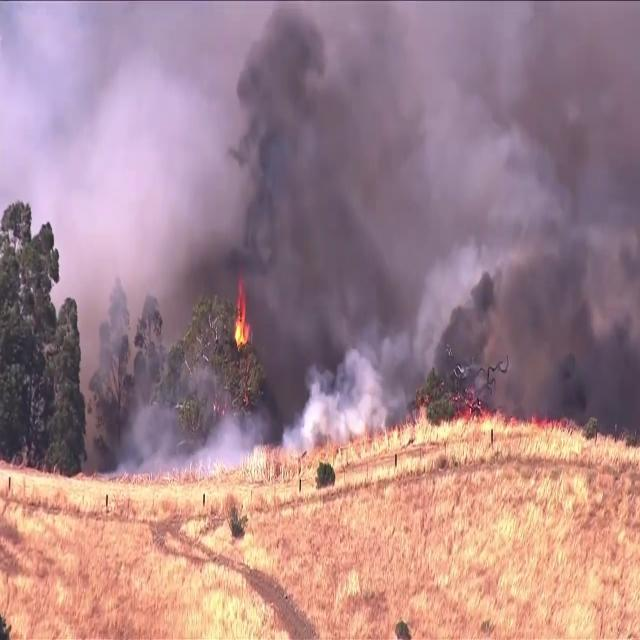Fire: (231, 275, 251, 354)
Smoke: (9, 1, 640, 445)
